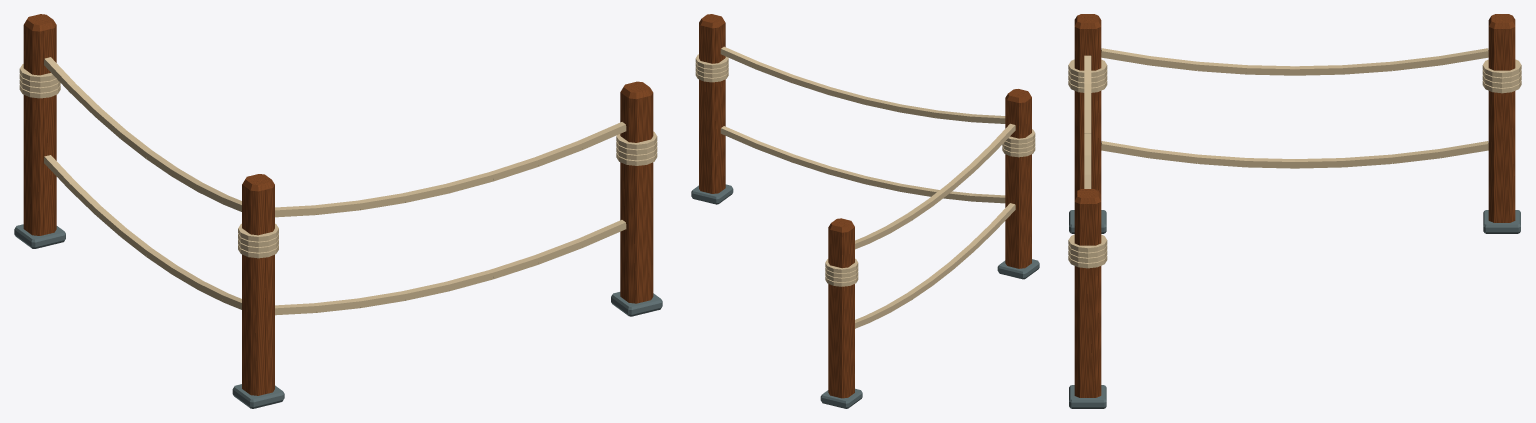
File: ocean-raft-settlement-ocean-raft-settlement-rope-rail--6a3287b1__28900.glb
The picture shows the model from 3 angles, left to right: view 1: azimuth 30°, elevation 25°; view 2: azimuth 150°, elevation 25°; view 3: azimuth 270°, elevation 25°; orthographic projection. The views are drawn at different scales.
Parts seen in each view (by area): view 1: wood, rope, iron; view 2: wood, rope, iron; view 3: wood, rope, iron.
Boxes of the visible parts, <box> form: wood: <box>23,14,653,395</box>; rope: <box>19,57,657,315</box>; iron: <box>14,224,662,408</box>; wood: <box>699,14,1031,398</box>; rope: <box>695,46,1035,328</box>; iron: <box>691,184,1039,408</box>; wood: <box>1074,14,1515,397</box>; rope: <box>1068,48,1521,268</box>; iron: <box>1069,210,1520,408</box>.
Size of the model in its own units: 2.03 by 1.03 by 2.03.
3 materials, 1 textured.
